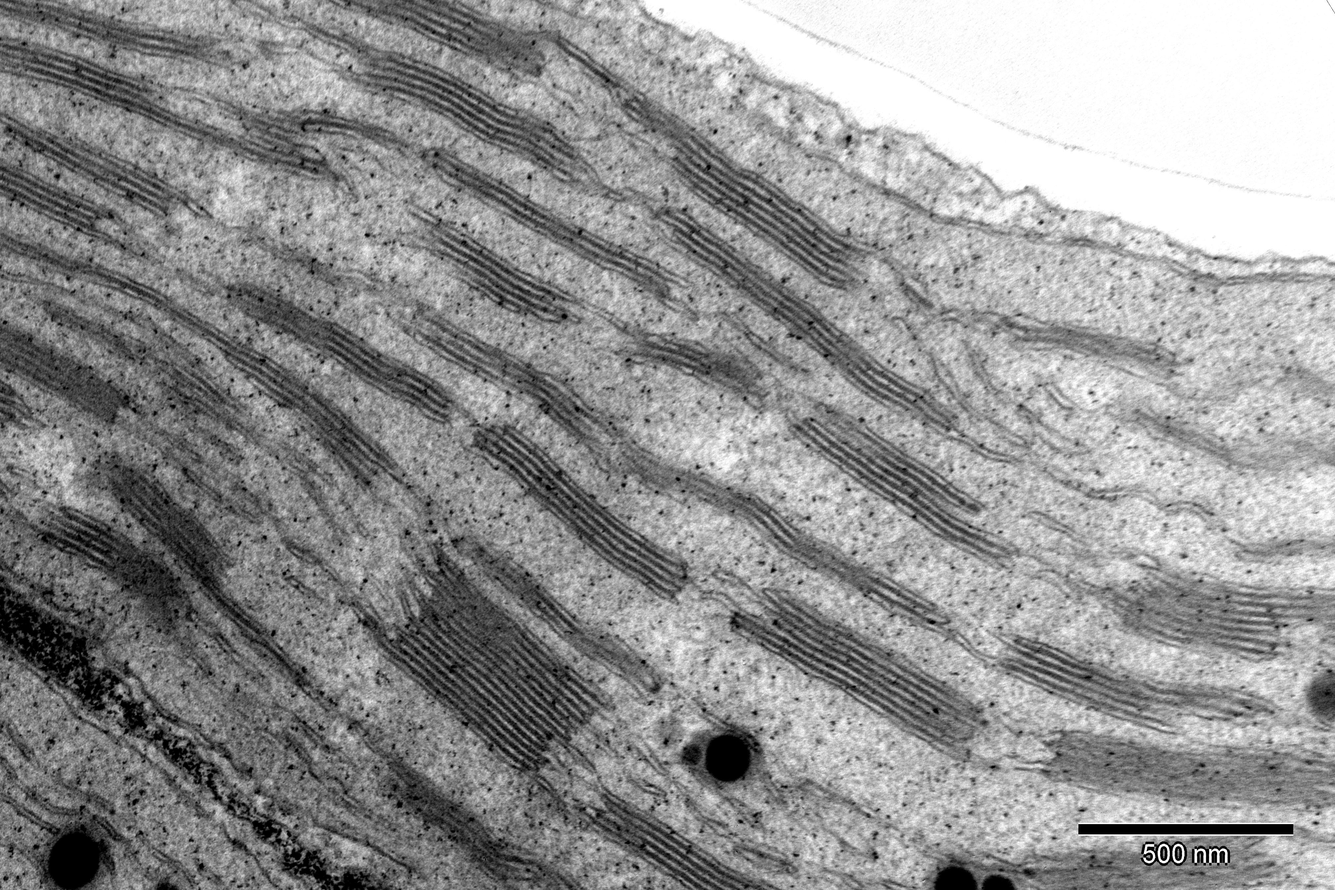granum: (660, 208, 964, 445), (609, 426, 942, 632), (612, 79, 876, 302), (372, 553, 615, 782), (725, 585, 988, 761), (466, 418, 690, 607), (786, 398, 1020, 574), (392, 296, 630, 467), (424, 144, 675, 304), (978, 617, 1286, 741), (452, 532, 667, 709), (340, 43, 596, 190), (223, 273, 461, 428), (370, 756, 589, 890), (220, 339, 400, 496), (1038, 724, 1335, 818), (1091, 559, 1335, 670), (919, 820, 1294, 890), (23, 495, 199, 644), (0, 108, 184, 226), (98, 457, 242, 601), (323, 0, 558, 87), (582, 791, 786, 890), (406, 206, 567, 327), (0, 34, 178, 129), (0, 0, 228, 73), (0, 308, 132, 432), (622, 315, 781, 414), (1143, 406, 1335, 484), (130, 323, 254, 440), (1002, 309, 1180, 390), (207, 88, 331, 191), (0, 152, 108, 238), (1281, 363, 1334, 413), (0, 378, 32, 430)
